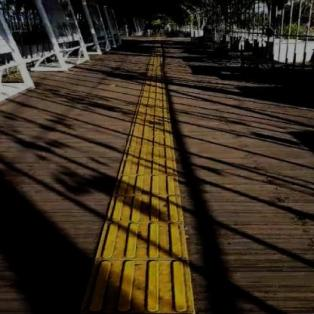Podoctatil: (83, 36, 197, 311)
